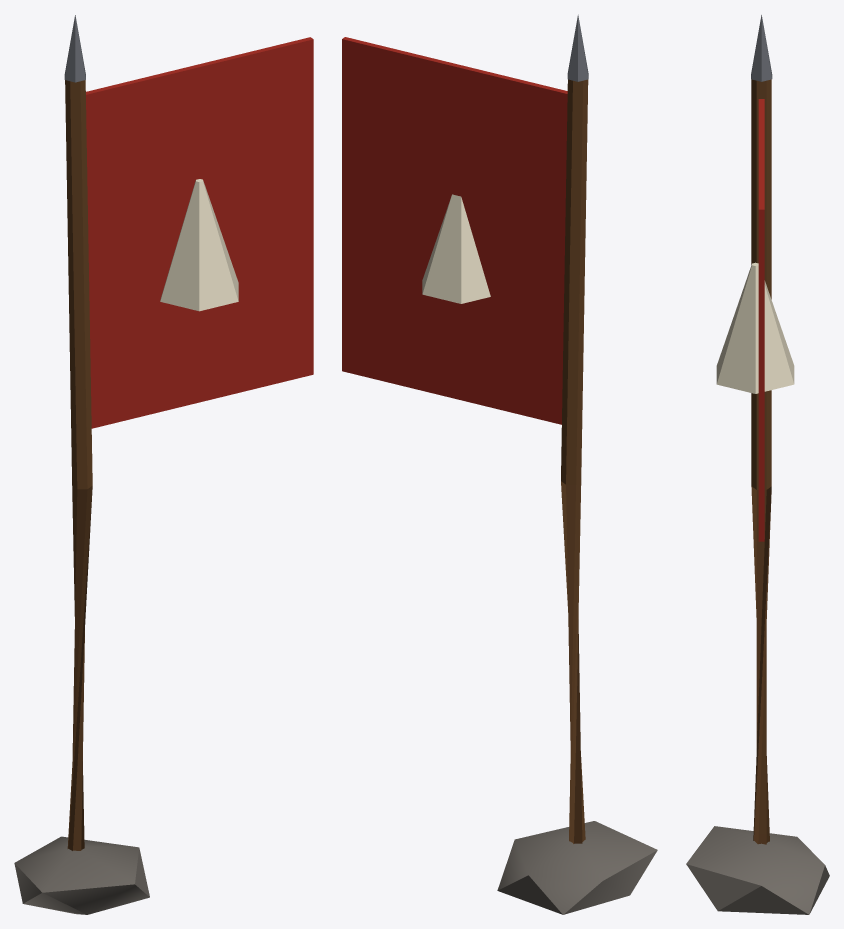
File: camp_banner_block.glb
3 views of the same model, side by side, from view 1: azimuth 30°, elevation 25°; view 2: azimuth 150°, elevation 25°; view 3: azimuth 270°, elevation 25° (orthographic).
Visible parts, largest first — view 1: camp_banner; view 2: camp_banner; view 3: camp_banner.
Boxes of the visible parts, x1,y1,x2,y2 form: camp_banner: (14, 15, 313, 914); camp_banner: (342, 14, 657, 914); camp_banner: (686, 15, 829, 914).
Bounding box in the file's own units: 1.65 × 4.83 × 0.7068.
